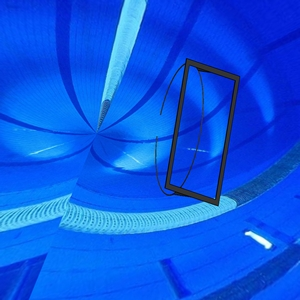circle: (154, 57, 240, 208)
